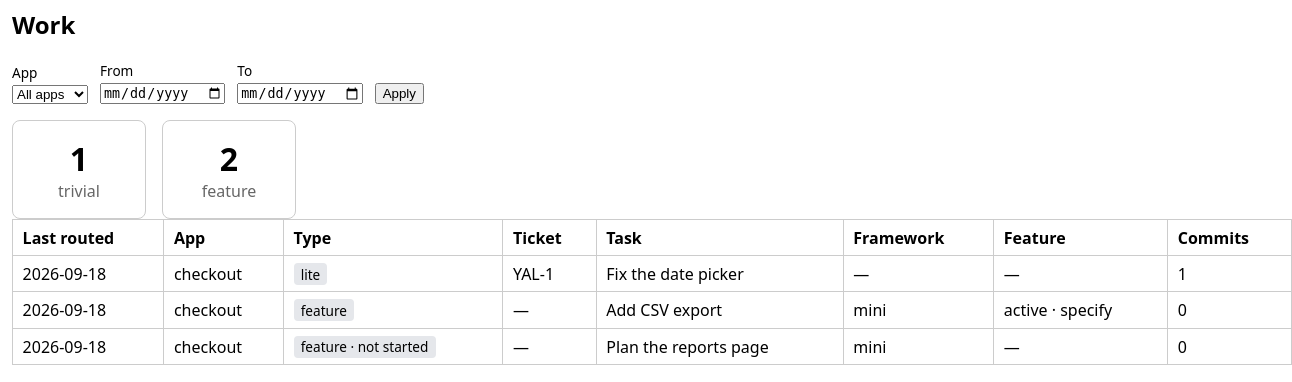
Test: Work › applies app and date filters as query params and blocks an inverted range
Expected: the text "Fix the date picker" is shown, [596,256,843,292]
Select "checkout" in the dropdown labelled "App". click: [50, 95]
box: [12,85,88,104]
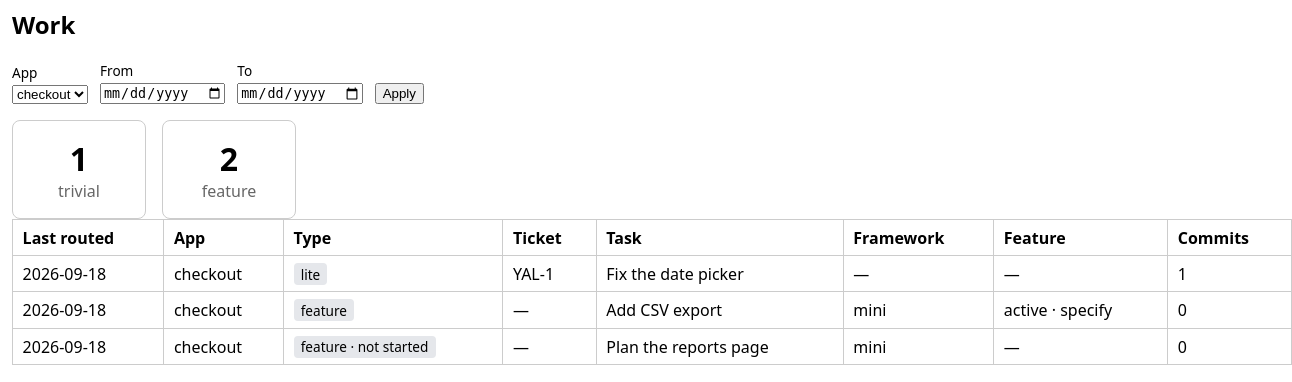
Type "2026-09-01" into the date field labelled "From". click: [163, 94]
box: [100,83,225,104]
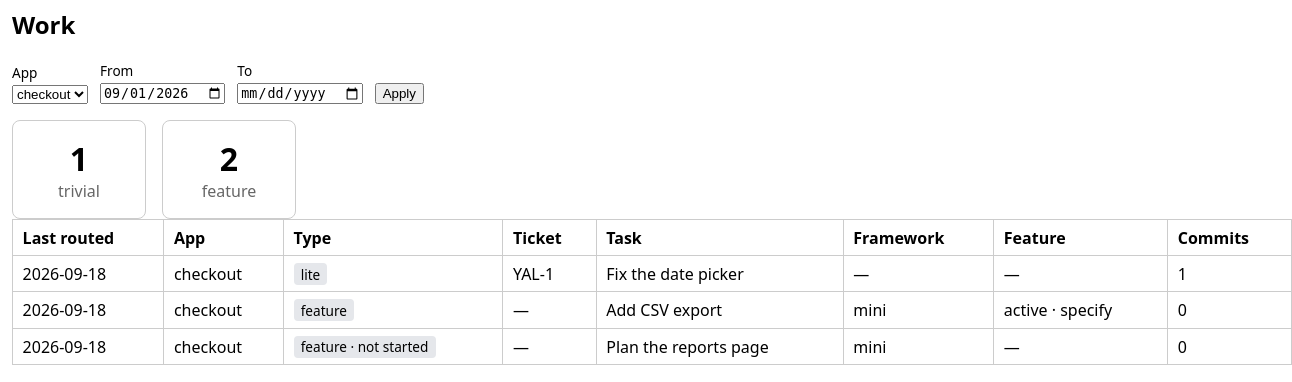
Type "2026-09-30" into the date field labelled "To". click: [300, 94]
box: [237,83,363,104]
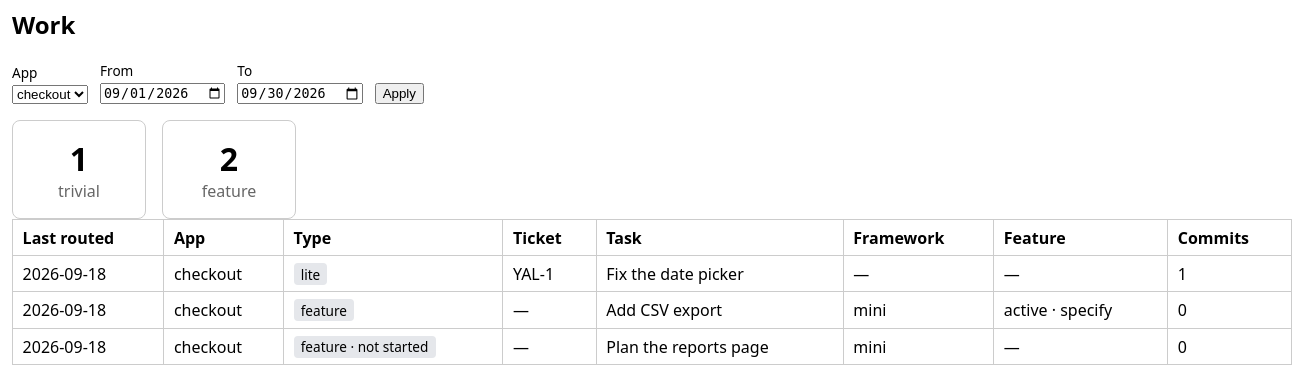
Click the button "Apply". click: [399, 94]
box: [375,83,424,104]
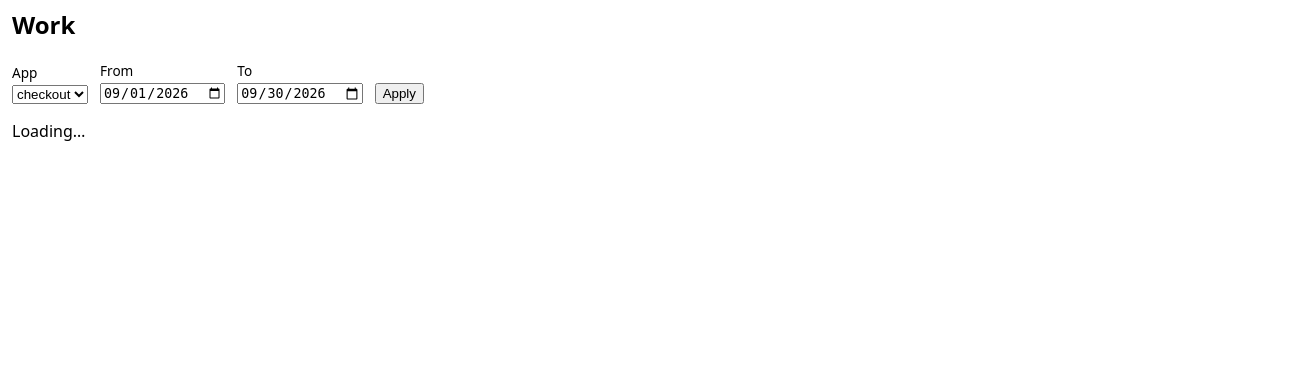
Type "2026-08-01" into the date field labelled "To". click: [300, 94]
box: [237,83,363,104]
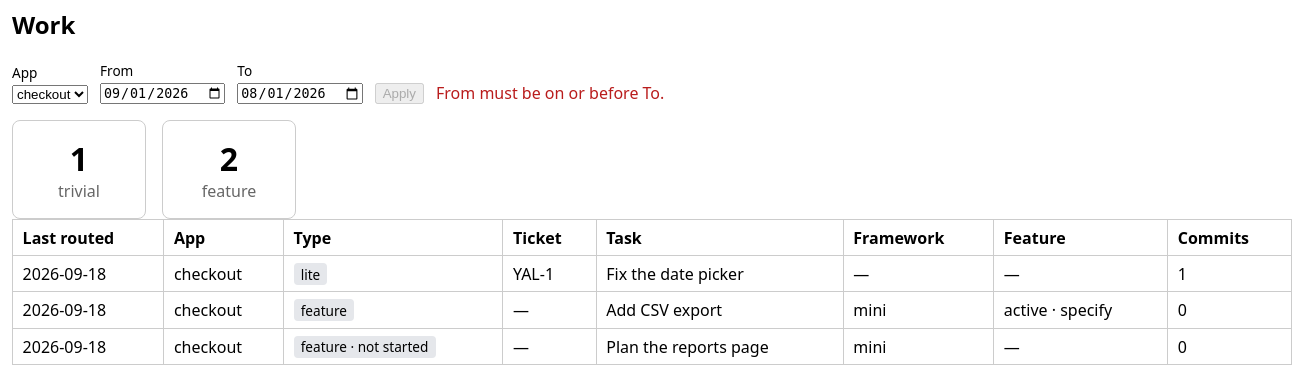
Expected: the button "Apply" is disabled, [375,83,424,104]
Expected: the text "From must be on or before To." is shown, [436,82,664,104]
